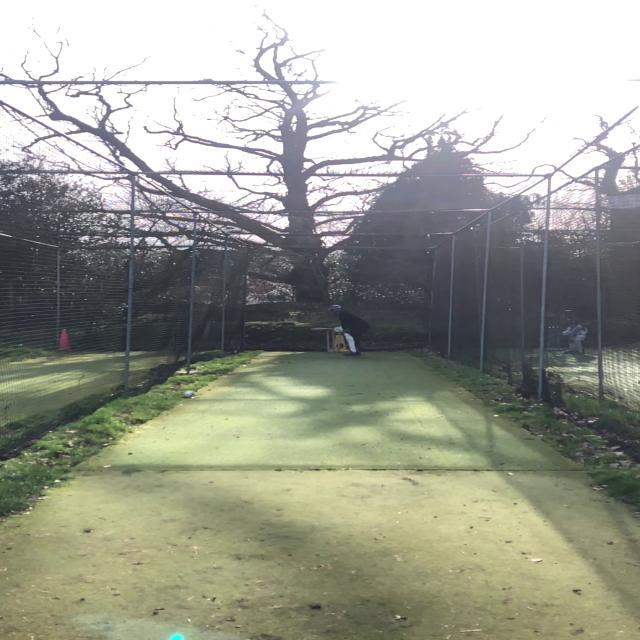ball: (183, 390, 196, 400)
